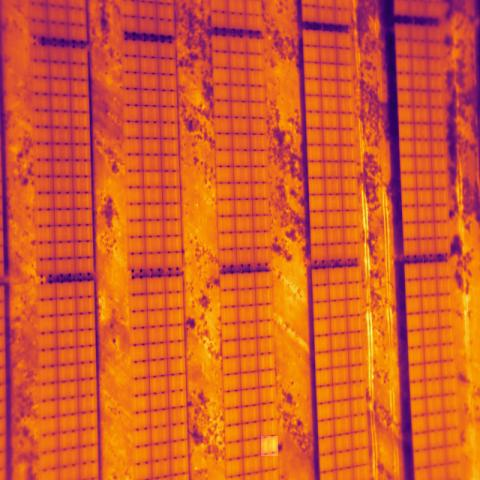fault: (261, 436, 278, 456)
